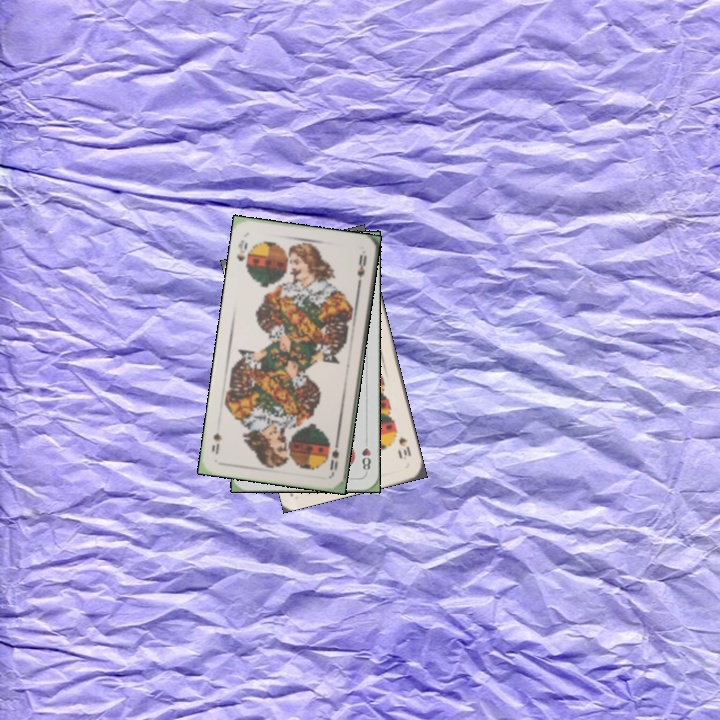H8: (358, 435, 373, 475)
S10: (395, 433, 414, 459)
SO: (232, 236, 252, 273), (326, 435, 342, 476)
